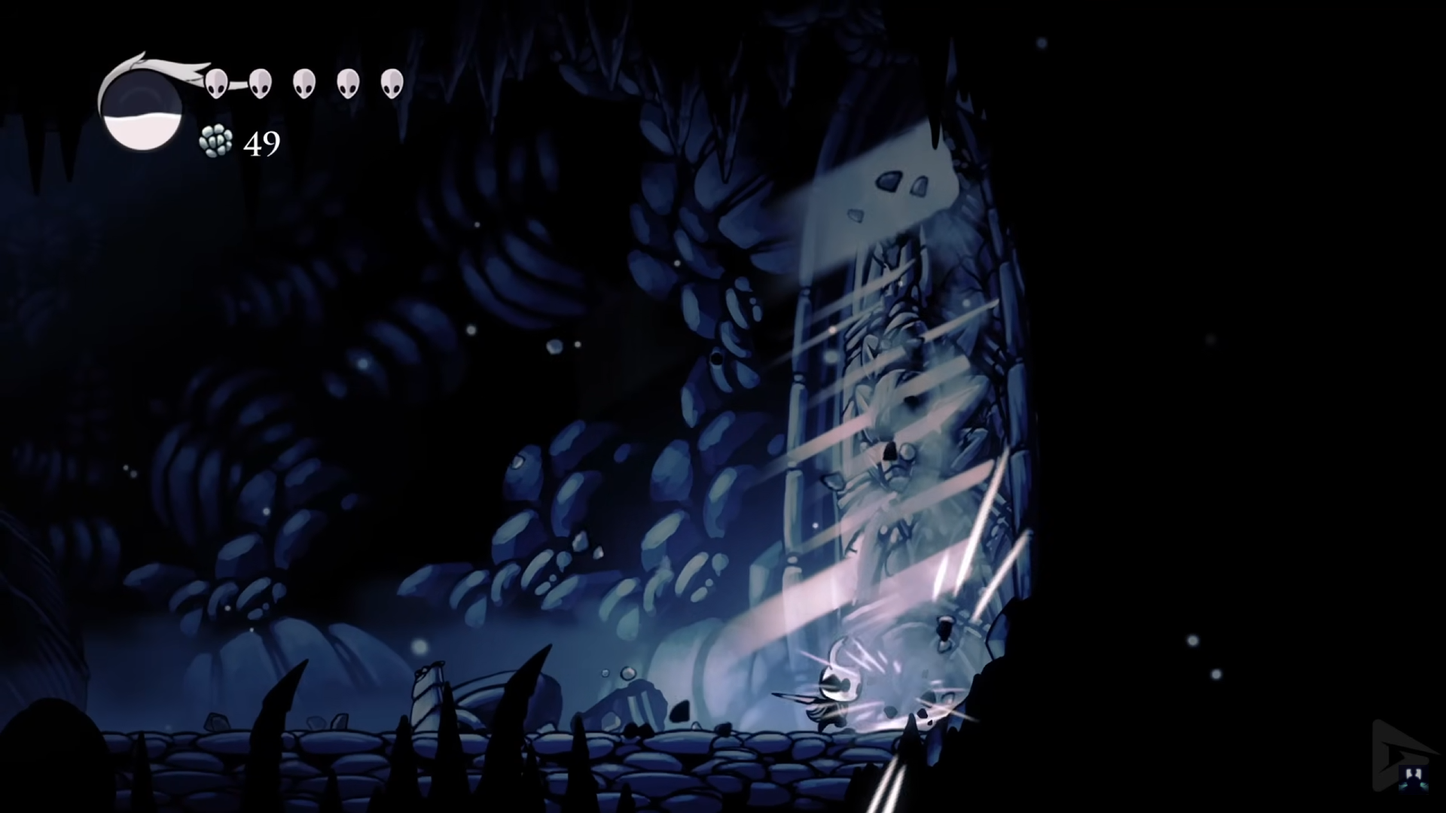HK: (803, 637, 874, 739)
